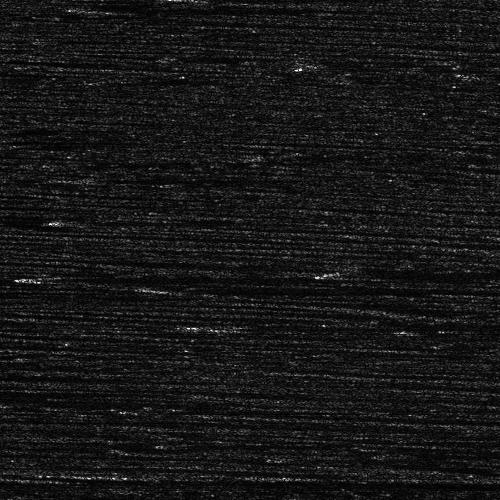rock: (69, 4, 122, 13), (188, 320, 219, 333), (297, 268, 370, 273), (108, 285, 181, 290)
shadow: (96, 4, 356, 13), (145, 285, 425, 290), (204, 320, 276, 333), (334, 268, 500, 273), (0, 390, 73, 395)
